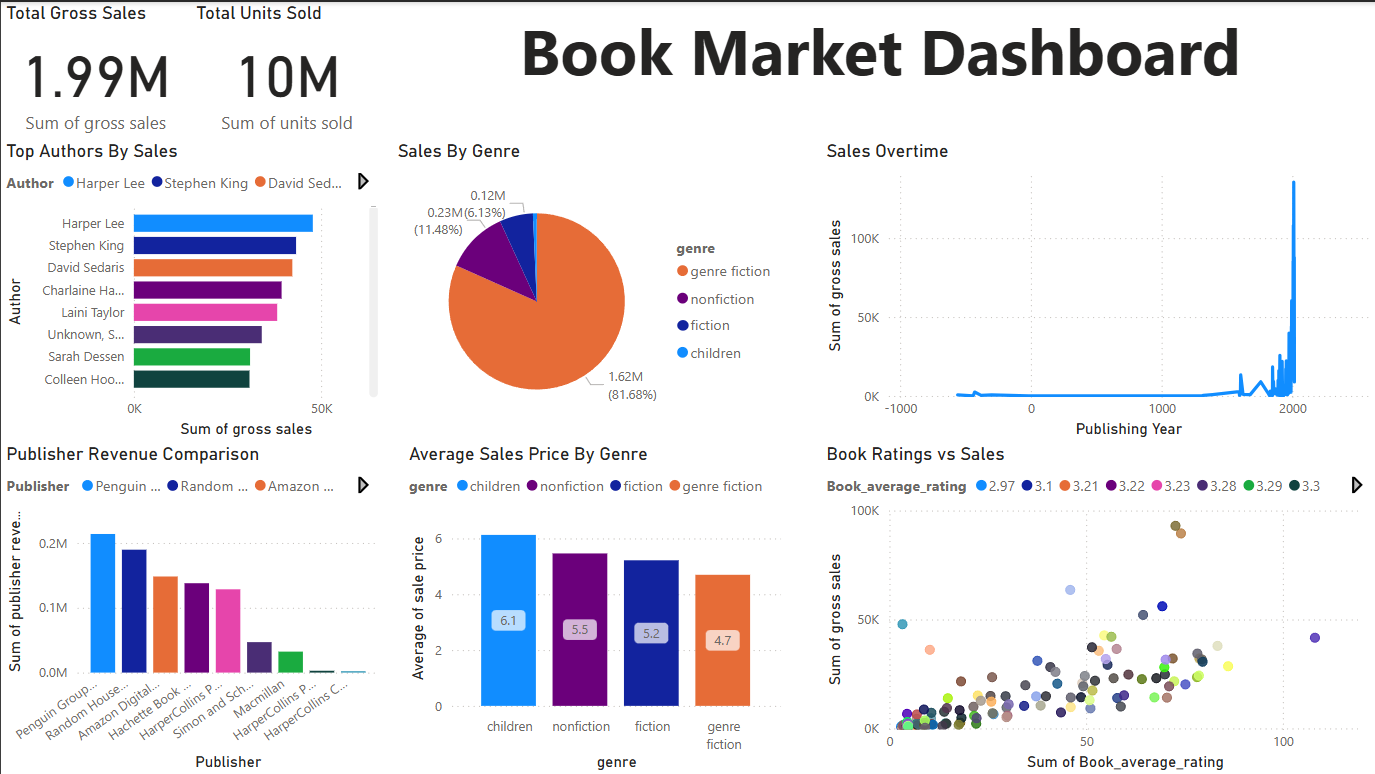

The dashboard page shown, as its layout file describes it:
{"tool":"powerbi","page":{"name":"Page 1","canvas":[1280,720],"ordinal":0},"visuals":[{"type":"card","title":"Total Gross Sales","fields":{"Values":["Sum(Books Data.gross sales)"]},"box":[0,0,176.7,127.9],"z":0},{"type":"card","title":"Total Units Sold","fields":{"Values":["Sum(Books Data.units sold)"]},"box":[176.7,0,179.1,127.9],"z":1000},{"type":"textbox","box":[355.8,0,924.4,127.9],"z":2000},{"type":"lineChart","title":"Sales Overtime","fields":{"Category":["Books Data.Publishing Year"],"Y":["Sum(Books Data.gross sales)"]},"box":[762.8,127.9,517.4,282.6],"z":3000},{"type":"pieChart","title":"Sales By Genre","fields":{"Category":["Books Data.genre"],"Y":["Sum(Books Data.gross sales)"]},"box":[364,127.9,366.3,282.6],"z":4000},{"type":"barChart","title":"Top Authors By Sales","fields":{"Category":["Books Data.Author"],"Y":["Sum(Books Data.gross sales)"],"Series":["Books Data.Author"]},"box":[0,127.9,355.8,282.6],"z":5000},{"type":"columnChart","title":"Publisher Revenue Comparison","fields":{"Category":["Books Data.Publisher "],"Y":["Sum(Books Data.publisher revenue)"],"Series":["Books Data.Publisher "]},"box":[0,410.5,355.8,309.3],"z":6000},{"type":"lineStackedColumnComboChart","title":"Average Sales Price By Genre","fields":{"Category":["Books Data.genre"],"Y":["Avg(Books Data.sale price)"],"Series":["Books Data.genre"]},"box":[374.4,410.5,355.8,309.3],"z":7000},{"type":"scatterChart","title":"Book Ratings vs Sales","fields":{"X":["Sum(Books Data.Book_average_rating)"],"Y":["Sum(Books Data.gross sales)"],"Category":["Books Data.Book_average_rating"],"Series":["Books Data.Book_average_rating"]},"box":[762.8,410.5,517.4,309.3],"z":7001}]}

Visuals, with their boxes in screenshot pixels (x1, y1, x2, y2), scaled from the page's 1280x720 canvas onto the 1375x774 screenshot:
"Total Gross Sales" card: crop(0, 0, 190, 137)
"Total Units Sold" card: crop(190, 0, 382, 137)
textbox: crop(382, 0, 1374, 137)
"Sales Overtime" lineChart: crop(819, 137, 1374, 441)
"Sales By Genre" pieChart: crop(391, 137, 785, 441)
"Top Authors By Sales" barChart: crop(0, 137, 382, 441)
"Publisher Revenue Comparison" columnChart: crop(0, 441, 382, 773)
"Average Sales Price By Genre" lineStackedColumnComboChart: crop(402, 441, 784, 773)
"Book Ratings vs Sales" scatterChart: crop(819, 441, 1374, 773)
